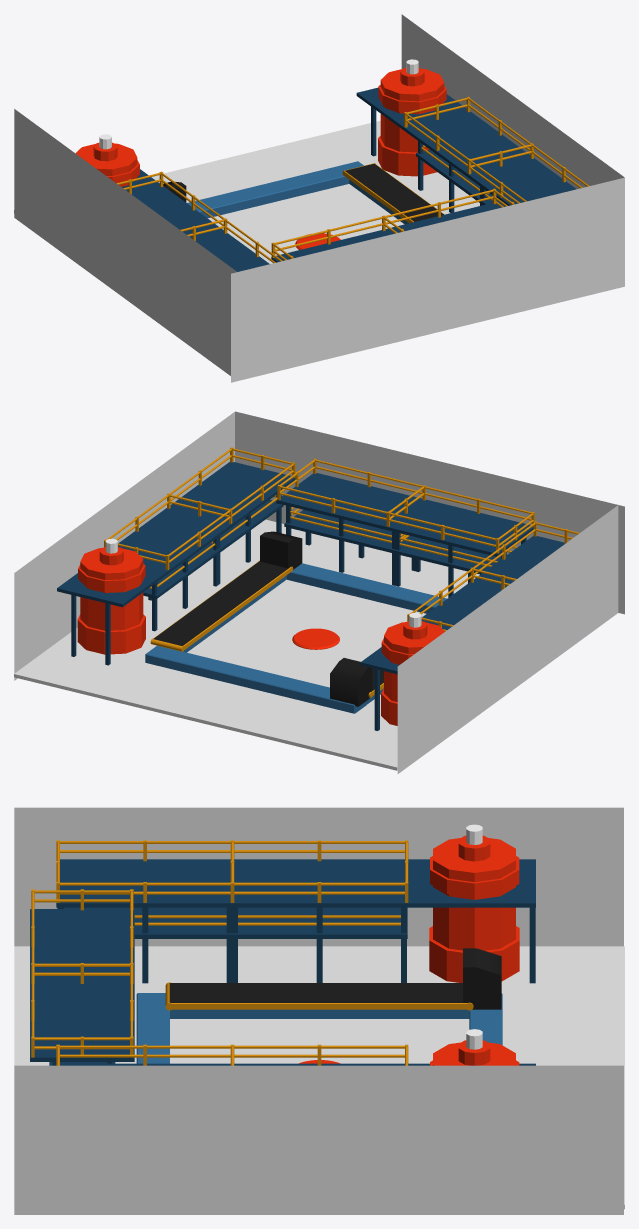
3 renders of one model, top to bottom at view 1: azimuth 30°, elevation 25°; view 2: azimuth 150°, elevation 25°; view 3: azimuth 270°, elevation 25°, orthographic. The views are drawn at different scales.
Visible parts, largest first — view 1: Wall_2, Wall_1, pCube1, Vat3, Scafholding pCube14, Scafholding6, pCube27 Converyor02, Scafholding1 pCube14, Vat1 pCylinder3, Converyor01 pCube4, Vat1 pCube26, Vat1 pCylinder6 (+2 smaller); view 2: pCube1, Wall_1, Scafholding6, Wall_2, Vat3, pCube27 Converyor02, Scafholding1 pCube14, Scafholding pCube14, Converyor01 pCube4, Vat1 pCylinder3, pCube29, Vat1 pCube26 (+8 smaller); view 3: Wall_1, Vat3, pCube1, Scafholding6, Converyor02 pCube4, pCube27 Converyor02, Converyor02 pCube2, pCube29, Converyor02 pCube3, Vat1 pCylinder3, Scafholding polySurface8, Scafholding polySurface6 (+3 smaller).
Part boxes in pixels (x1=…): Wall_2: x1=231, y1=177, x2=624, y2=382; Wall_1: x1=14, y1=14, x2=624, y2=375; pCube1: x1=14, y1=120, x2=479, y2=263; Vat3: x1=75, y1=134, x2=282, y2=271; Scafholding pCube14: x1=403, y1=112, x2=534, y2=177; Scafholding6: x1=271, y1=188, x2=514, y2=262; pCube27 Converyor02: x1=187, y1=161, x2=363, y2=218; Scafholding1 pCube14: x1=467, y1=158, x2=576, y2=205; Vat1 pCylinder3: x1=380, y1=69, x2=444, y2=152; Converyor01 pCube4: x1=345, y1=163, x2=443, y2=221; Vat1 pCube26: x1=356, y1=87, x2=474, y2=133; Vat1 pCylinder6: x1=378, y1=136, x2=437, y2=176; pCube1: x1=14, y1=519, x2=479, y2=770; Wall_1: x1=14, y1=412, x2=618, y2=773; Scafholding6: x1=276, y1=458, x2=534, y2=597; Wall_2: x1=235, y1=411, x2=624, y2=614; Vat3: x1=360, y1=521, x2=579, y2=730; pCube27 Converyor02: x1=145, y1=563, x2=446, y2=713; Scafholding1 pCube14: x1=170, y1=462, x2=295, y2=526; Scafholding pCube14: x1=118, y1=508, x2=232, y2=573; Converyor01 pCube4: x1=153, y1=561, x2=288, y2=645; Vat1 pCylinder3: x1=80, y1=548, x2=143, y2=630; pCube29: x1=330, y1=658, x2=372, y2=706; Vat1 pCube26: x1=57, y1=558, x2=173, y2=607; Wall_1: x1=14, y1=807, x2=623, y2=1214; Vat3: x1=56, y1=824, x2=535, y2=983; pCube1: x1=14, y1=946, x2=624, y2=1209; Scafholding6: x1=30, y1=889, x2=134, y2=1065; Converyor02 pCube4: x1=169, y1=983, x2=462, y2=1002; pCube27 Converyor02: x1=136, y1=993, x2=502, y2=1063; Converyor02 pCube2: x1=170, y1=1009, x2=469, y2=1018; pCube29: x1=463, y1=948, x2=501, y2=1009; Converyor02 pCube3: x1=171, y1=1003, x2=467, y2=1009; Vat1 pCylinder3: x1=433, y1=1042, x2=515, y2=1065; Scafholding polySurface8: x1=234, y1=1054, x2=404, y2=1057; Scafholding polySurface6: x1=234, y1=1045, x2=404, y2=1048.
Bounding box in the file's own units: 30.99 × 8.52 × 30.46.
